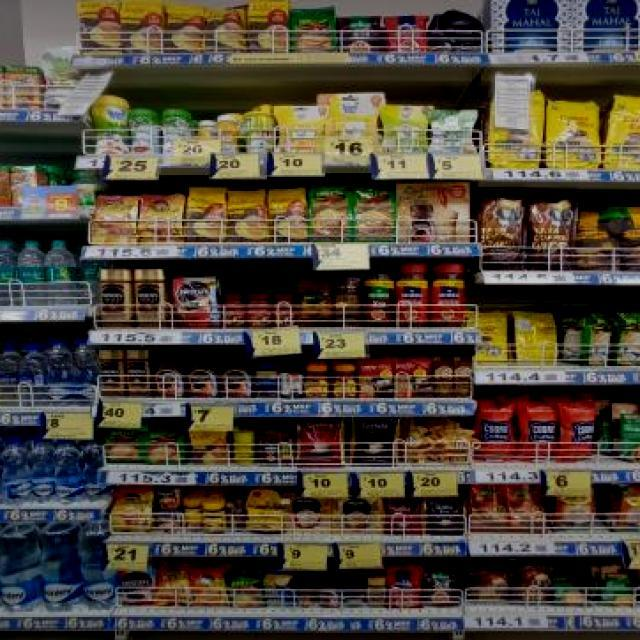Coffee: (174, 277, 218, 328), (139, 195, 183, 242), (93, 198, 137, 242), (100, 270, 133, 326), (111, 488, 151, 532), (135, 270, 166, 326), (185, 357, 218, 398), (220, 356, 252, 396), (192, 569, 227, 605), (157, 568, 190, 606), (126, 350, 152, 396), (122, 569, 154, 605), (100, 350, 125, 396), (154, 356, 182, 396), (304, 367, 329, 398), (334, 365, 356, 397), (318, 580, 339, 608), (368, 579, 386, 607), (344, 592, 362, 606)
